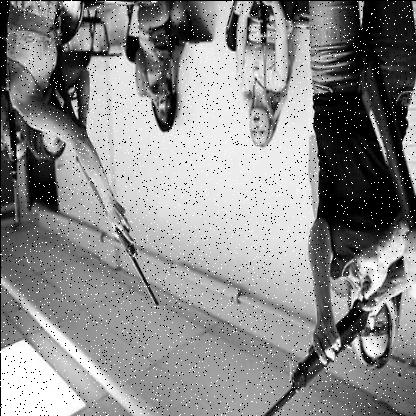rifle: (47, 61, 163, 310), (250, 272, 379, 416)
